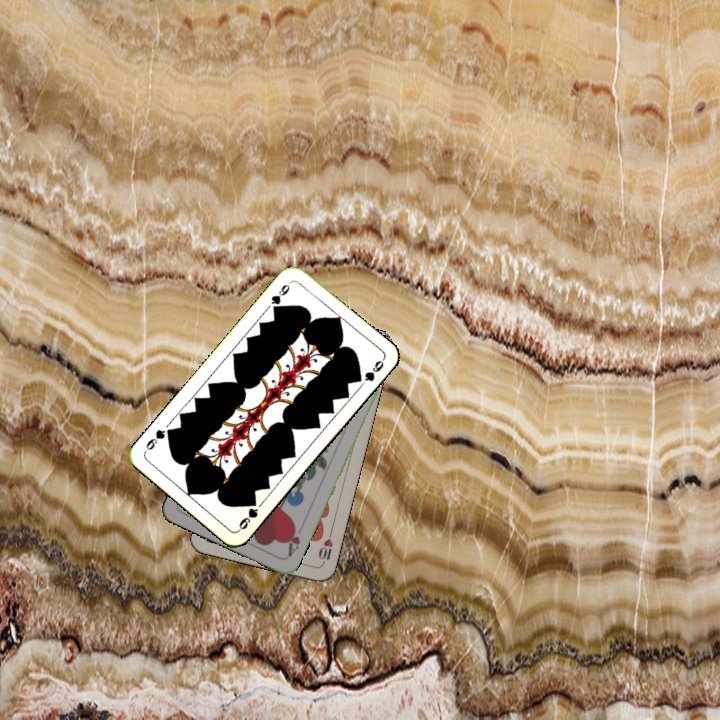G9: (234, 495, 261, 534), (267, 277, 294, 314)
H10: (314, 527, 336, 567)
HA: (283, 521, 306, 559)
